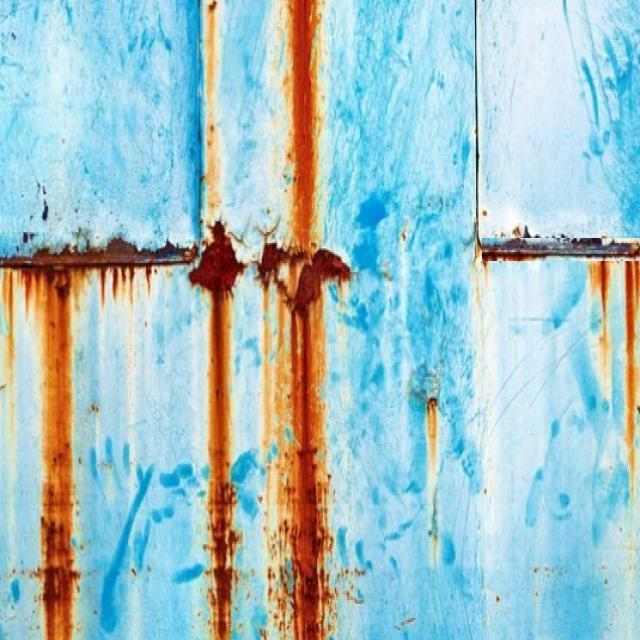Corrosion: (259, 0, 351, 640), (1, 266, 78, 640), (189, 221, 244, 640), (40, 270, 78, 640), (290, 0, 318, 251), (0, 237, 198, 268), (189, 221, 244, 292), (483, 238, 640, 262), (294, 249, 351, 310), (626, 261, 640, 476), (589, 261, 612, 384), (426, 384, 440, 566), (86, 266, 146, 306), (258, 243, 289, 286)
